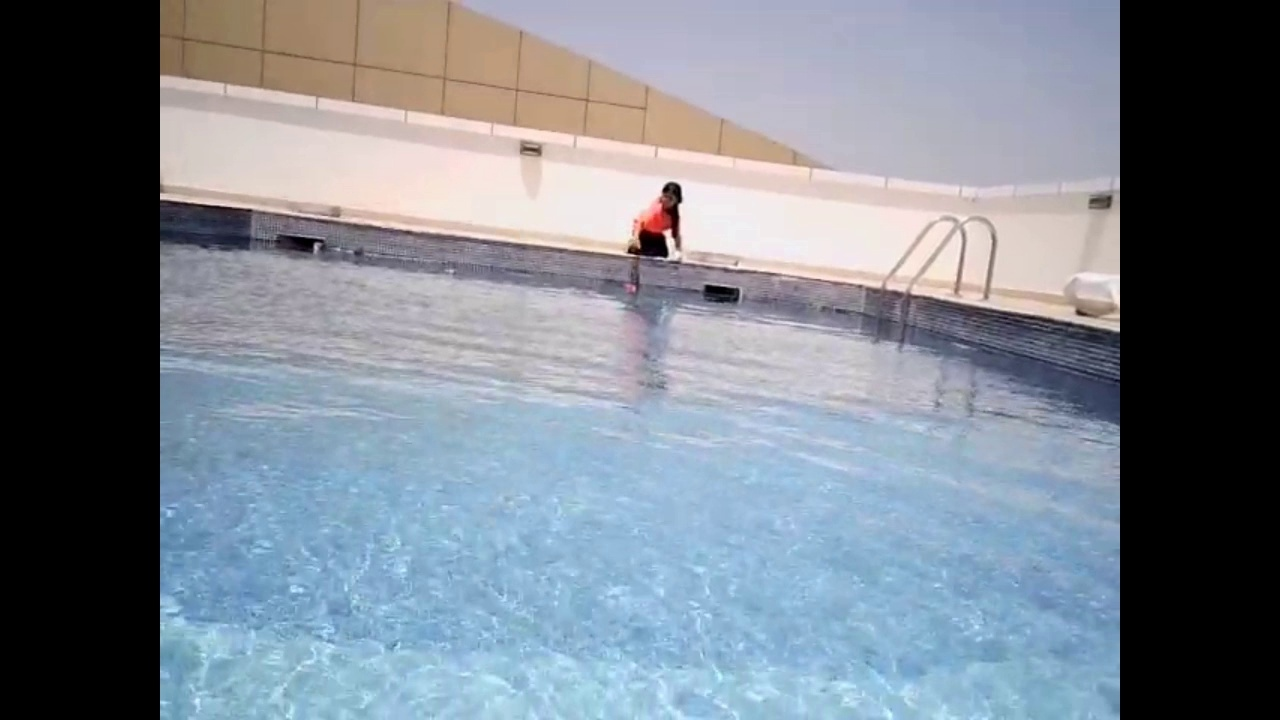debris: (619, 275, 641, 297), (439, 263, 463, 279), (345, 245, 366, 259), (326, 241, 342, 255), (310, 241, 324, 256)
